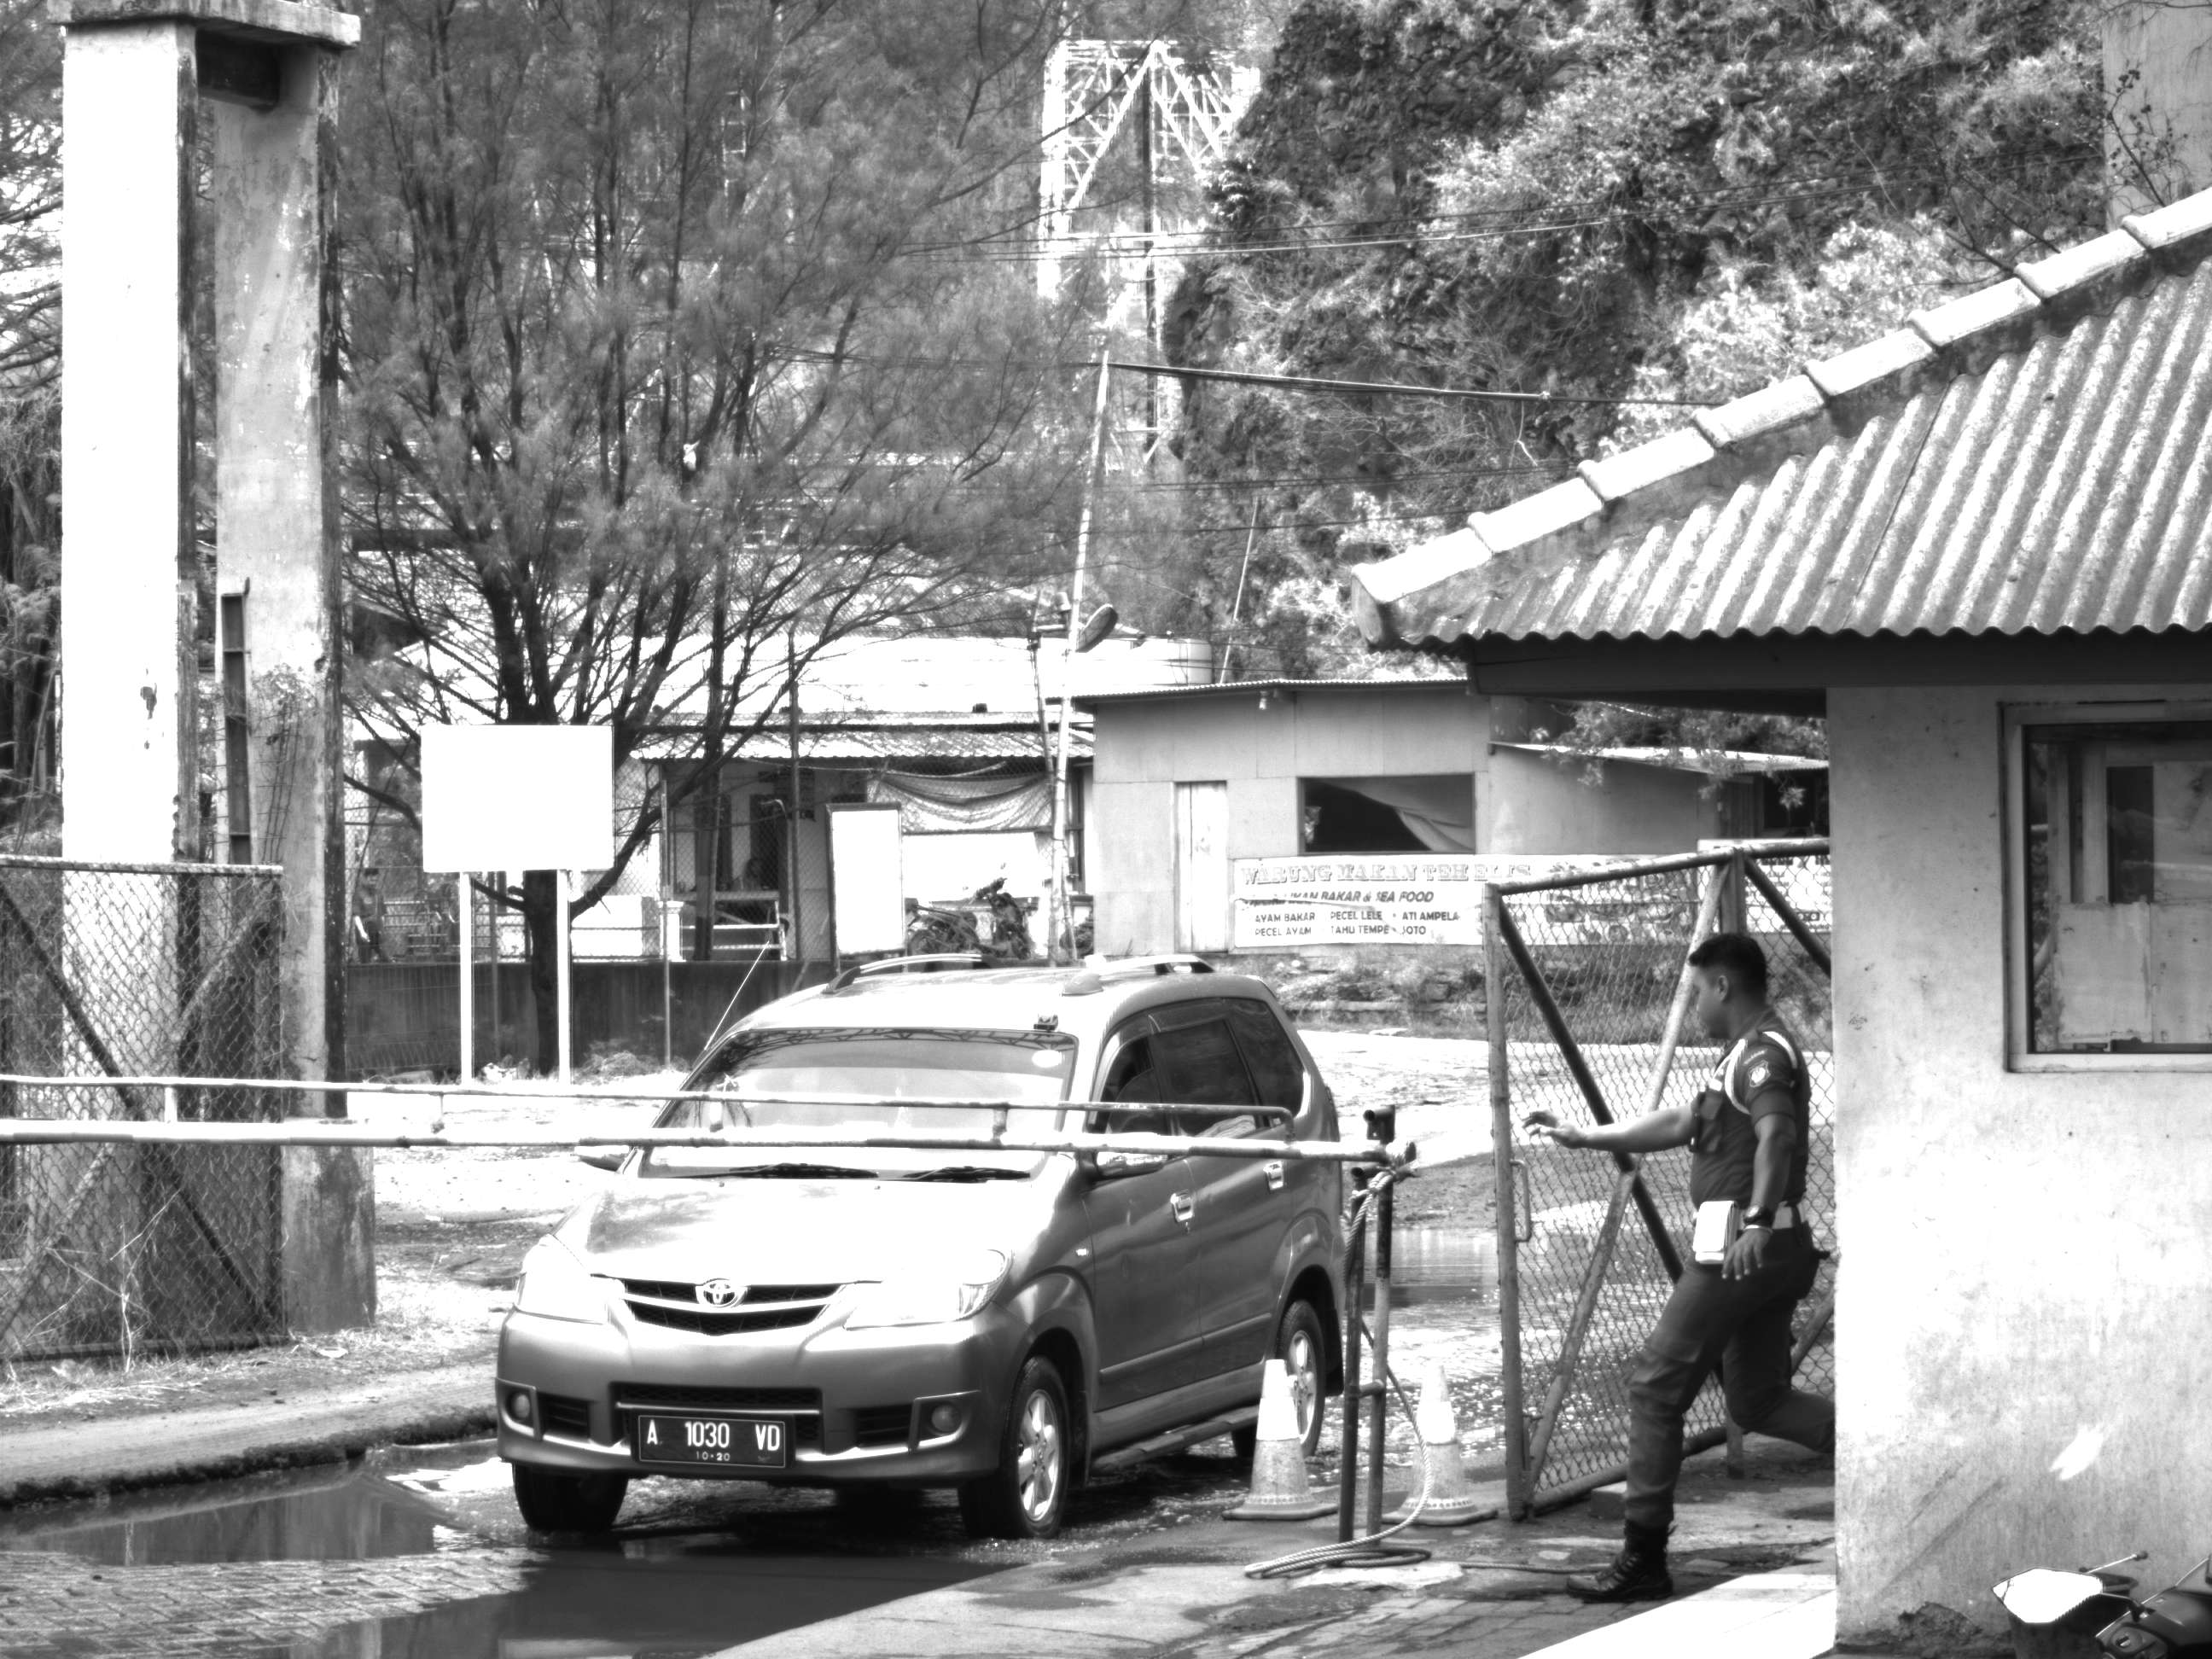day_small_front: (479, 955, 1138, 1531)
plate: (633, 1413, 804, 1465)
